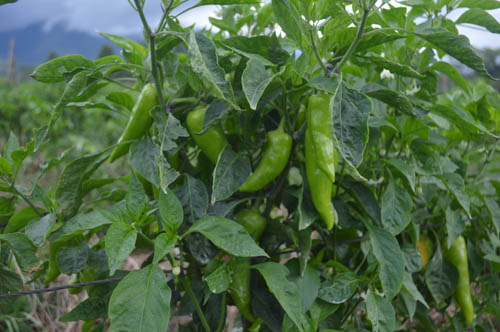ChiliPepper: (226, 210, 267, 314), (109, 88, 157, 165), (237, 134, 290, 202), (304, 134, 339, 235), (442, 235, 477, 325), (308, 95, 343, 180), (187, 111, 229, 162)
